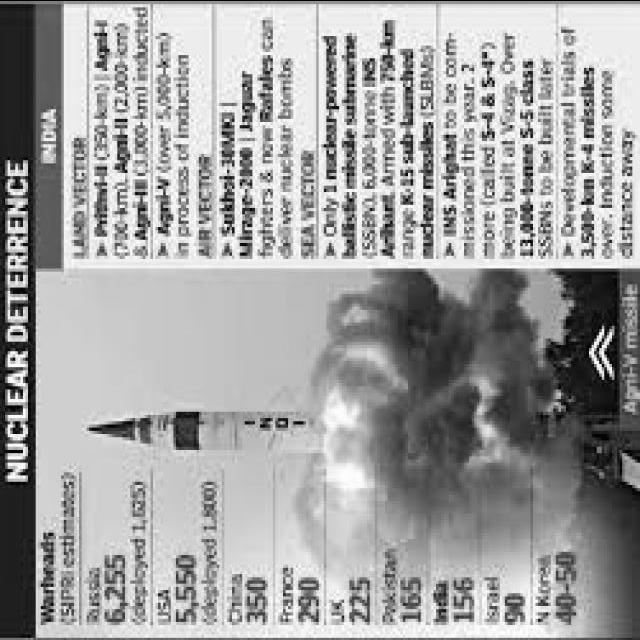Missile: (64, 398, 330, 459)
